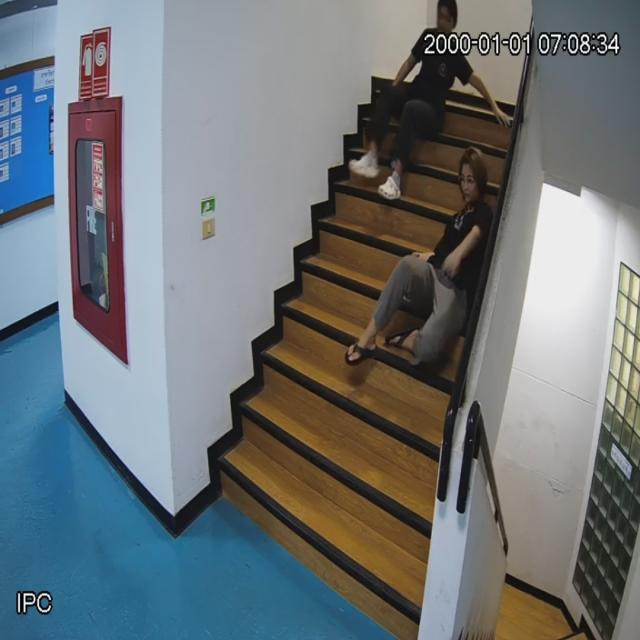fall: (347, 144, 499, 368), (351, 2, 474, 199)
